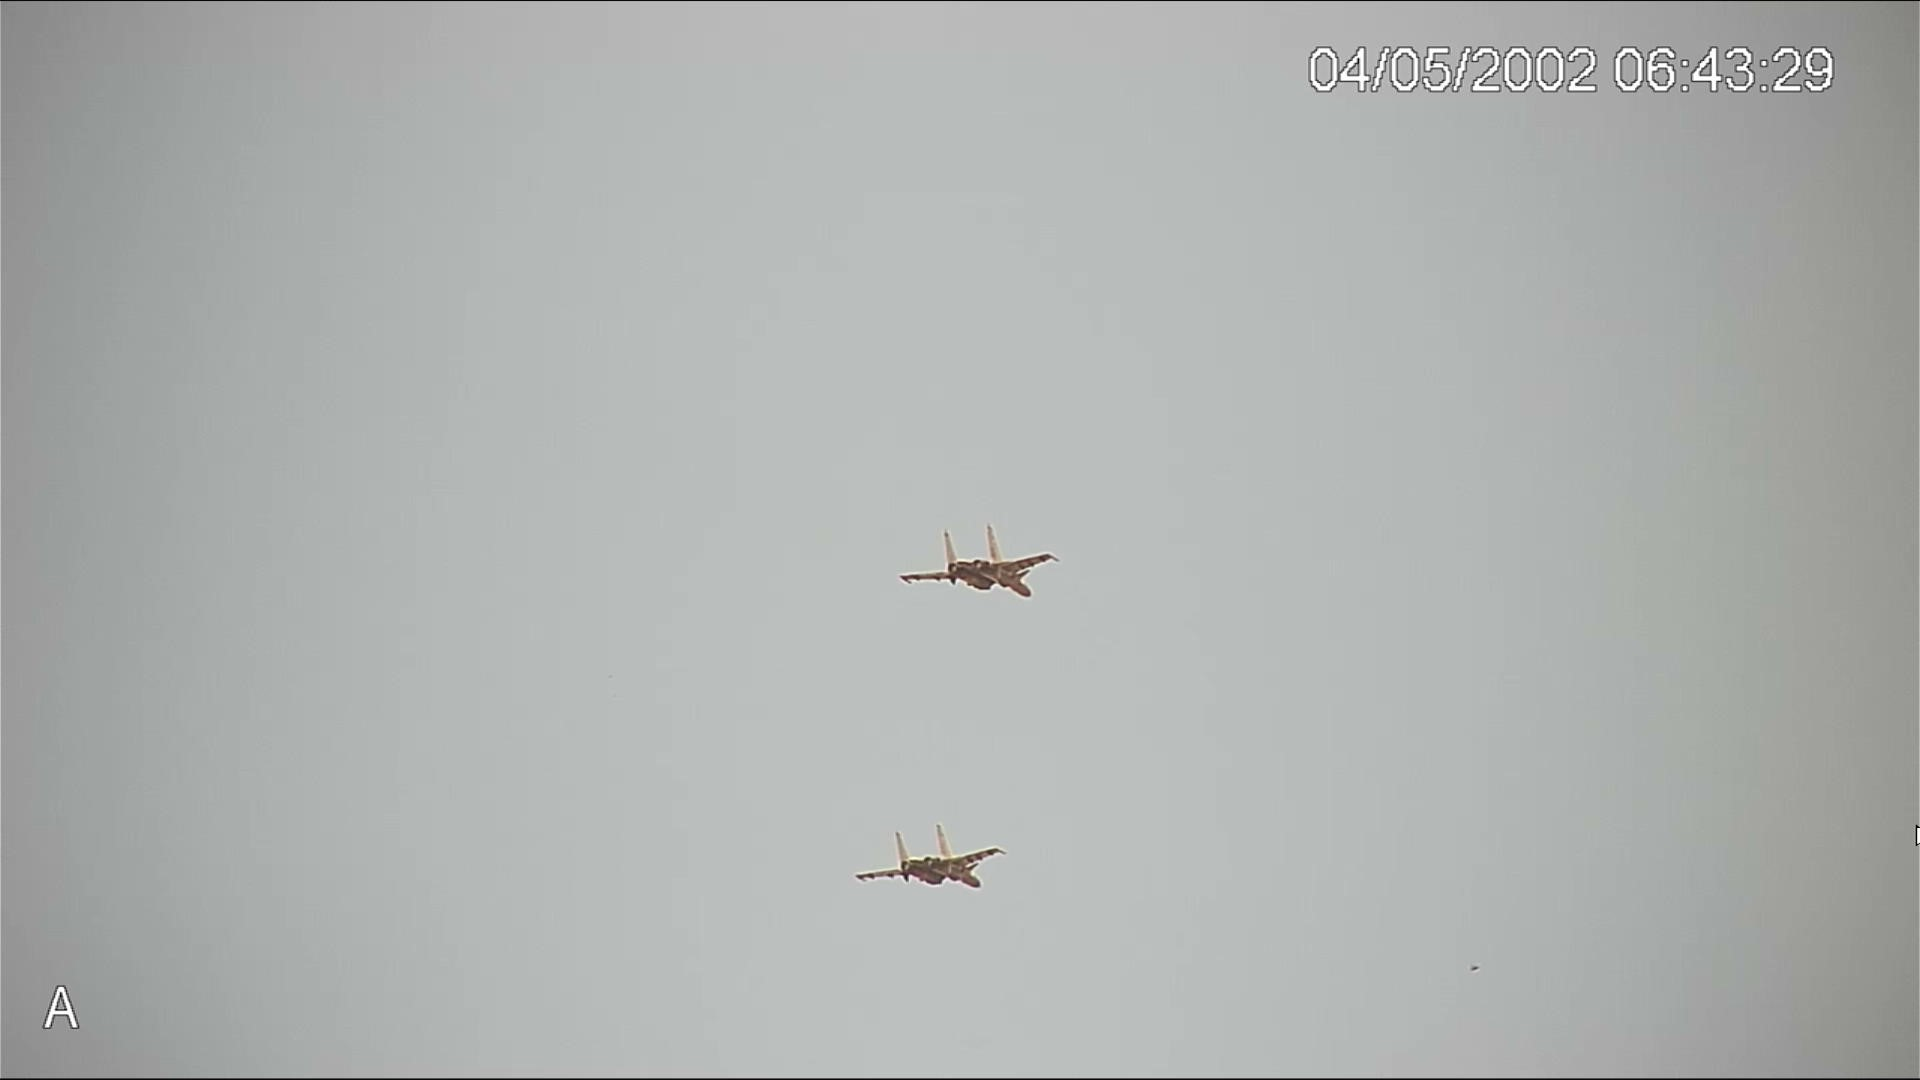SU_30: (895, 526, 1060, 607), (855, 822, 1007, 893)
